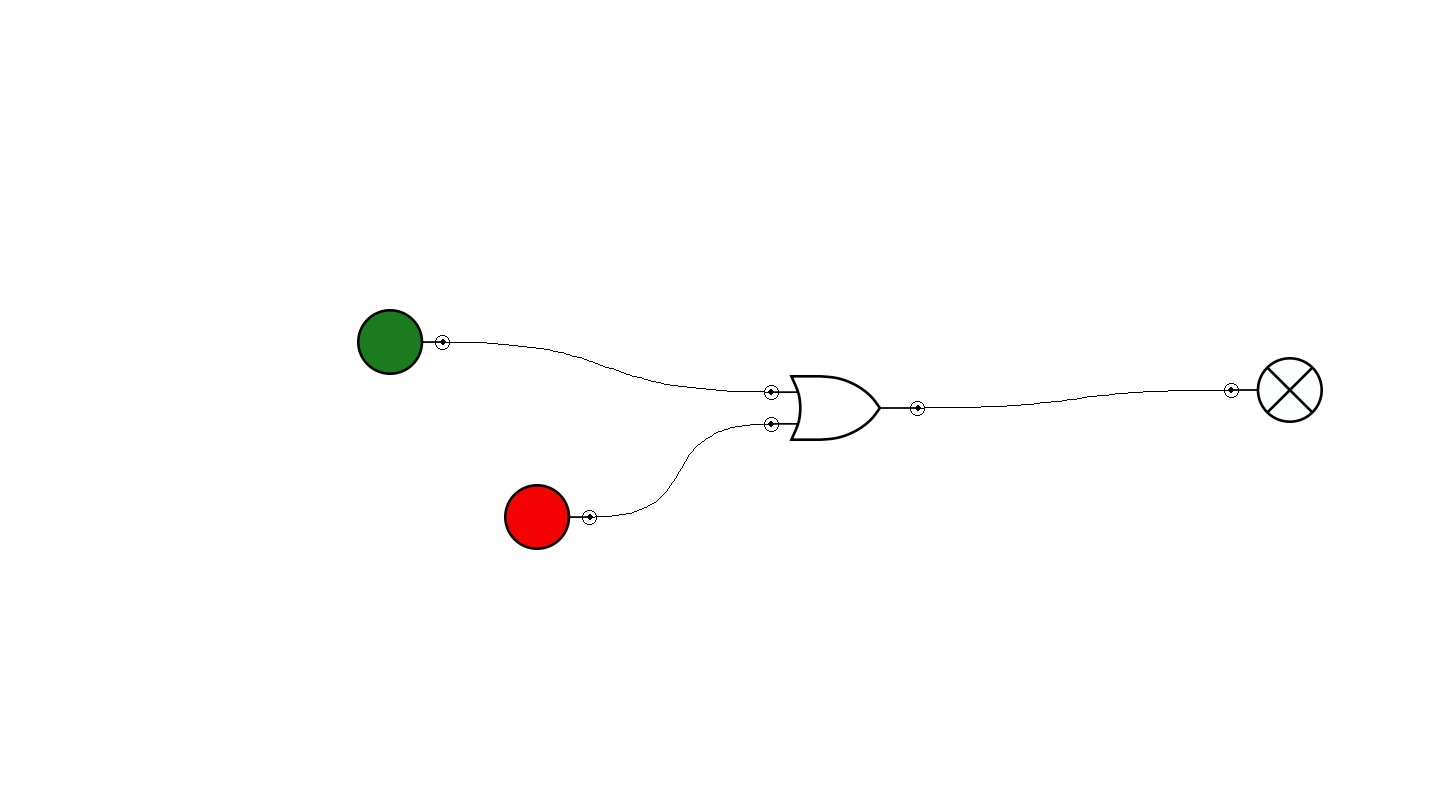bulb: (1224, 357, 1323, 423)
or: (764, 375, 925, 441)
switch_False: (504, 484, 597, 550)
switch_True: (357, 309, 450, 375)
